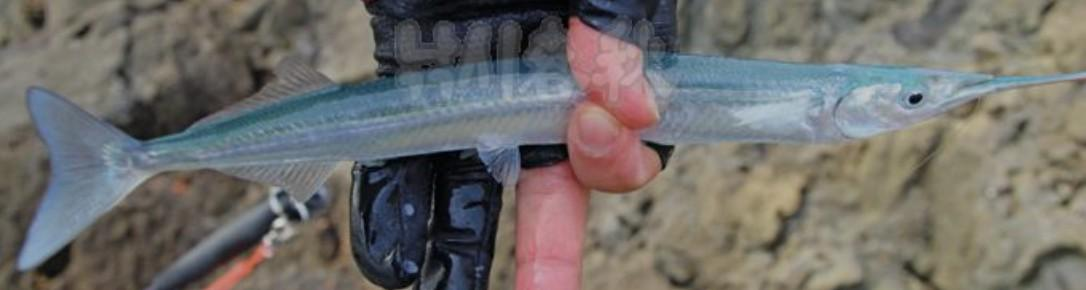fish: (17, 52, 1085, 269)
